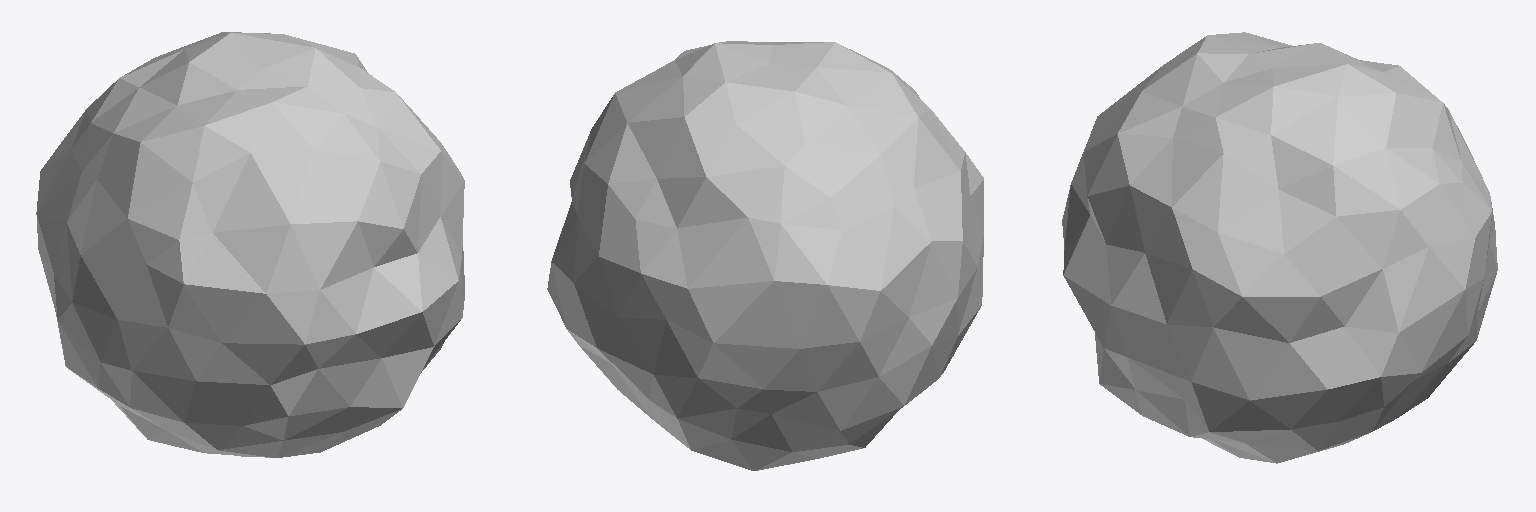
Rendered from planet.obj.
The picture shows the model from 3 angles: view 1: azimuth 30°, elevation 25°; view 2: azimuth 150°, elevation 25°; view 3: azimuth 270°, elevation 25°; orthographic projection.
Visible parts, largest first — view 1: Icosphere_Icosphere.001; view 2: Icosphere_Icosphere.001; view 3: Icosphere_Icosphere.001.
Boxes of the visible parts, box(x1,y1,x2,y2) form: Icosphere_Icosphere.001: box(36, 32, 464, 457); Icosphere_Icosphere.001: box(547, 41, 983, 470); Icosphere_Icosphere.001: box(1062, 32, 1497, 463).
Size of the model in its own units: 6.03 by 6.07 by 6.09.